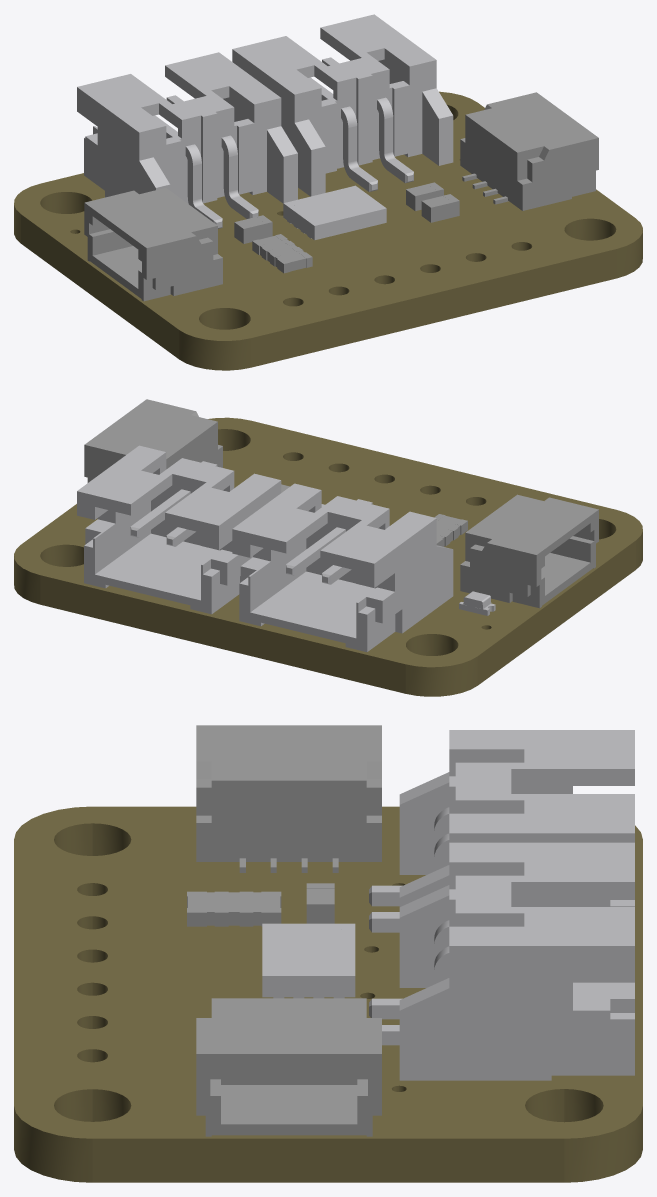
Rendered from ada-4712.glb.
3 renders of one model, top to bottom at view 1: azimuth 30°, elevation 25°; view 2: azimuth 150°, elevation 25°; view 3: azimuth 270°, elevation 25°, orthographic. The views are drawn at different scales.
Visible parts, largest first — view 1: 0.16666666666666666_0.16666666666666666_0.08333333333333333_, 0.5833333333333334_0.5833333333333334_0.5833333333333334_0.8, 0.3333333333333333_0.3333333333333333_0.3333333333333333_0; view 2: 0.5833333333333334_0.5833333333333334_0.5833333333333334_0.8, 0.16666666666666666_0.16666666666666666_0.08333333333333333_, 0.3333333333333333_0.3333333333333333_0.3333333333333333_0; view 3: 0.16666666666666666_0.16666666666666666_0.08333333333333333_, 0.5833333333333334_0.5833333333333334_0.5833333333333334_0.8, 0.3333333333333333_0.3333333333333333_0.3333333333333333_0.
Boxes of the visible parts, x1,y1,x2,y2 form: 0.16666666666666666_0.16666666666666666_0.08333333333333333_: [14, 91, 642, 370]; 0.5833333333333334_0.5833333333333334_0.5833333333333334_0.8: [77, 14, 453, 240]; 0.3333333333333333_0.3333333333333333_0.3333333333333333_0: [84, 92, 598, 301]; 0.5833333333333334_0.5833333333333334_0.5833333333333334_0.8: [77, 445, 495, 651]; 0.16666666666666666_0.16666666666666666_0.08333333333333333_: [14, 417, 642, 696]; 0.3333333333333333_0.3333333333333333_0.3333333333333333_0: [84, 399, 598, 608]; 0.16666666666666666_0.16666666666666666_0.08333333333333333_: [14, 806, 642, 1182]; 0.5833333333333334_0.5833333333333334_0.5833333333333334_0.8: [262, 730, 634, 1080]; 0.3333333333333333_0.3333333333333333_0.3333333333333333_0: [187, 725, 381, 1136].
Size of the model in its own units: 2.54 by 0.6369 by 2.03.
